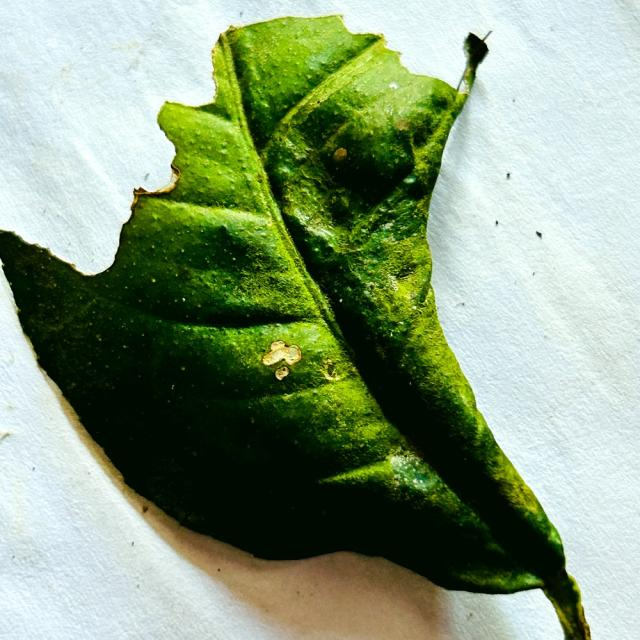Deficiency Leaf: (0, 3, 218, 273), (428, 124, 561, 512), (334, 0, 493, 92)
Lemon: (0, 17, 589, 639)
